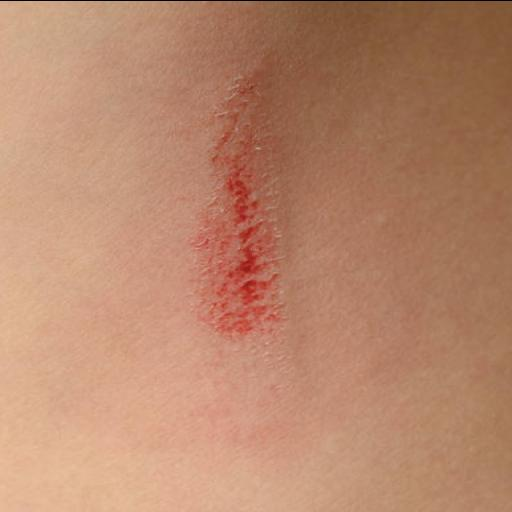bruises: (200, 144, 272, 330)
